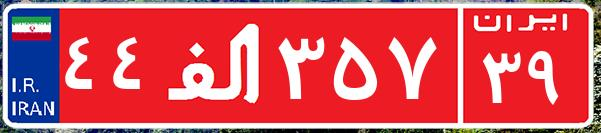3: (273, 28, 330, 110), (475, 38, 525, 113)
4: (57, 26, 110, 107), (110, 28, 158, 105)
5: (330, 28, 385, 110)
7: (385, 28, 445, 110)
9: (525, 38, 570, 115)
الف: (158, 15, 273, 115)
